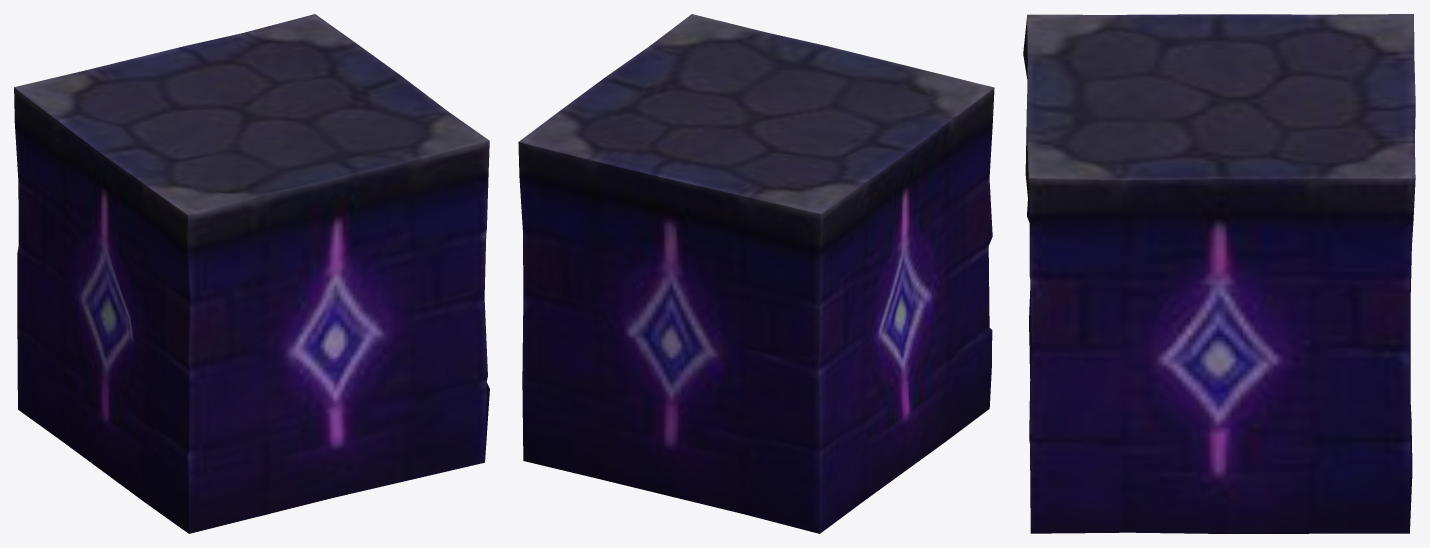
Rendered from b_abimes_mur_1.glb.
The picture shows the model from 3 angles, left to right: view 1: azimuth 30°, elevation 25°; view 2: azimuth 150°, elevation 25°; view 3: azimuth 270°, elevation 25°; orthographic projection. The views are drawn at different scales.
Visible parts, largest first — view 1: geometry_0; view 2: geometry_0; view 3: geometry_0.
Boxes of the visible parts, <box> form: geometry_0: <box>14,14,489,533</box>; geometry_0: <box>518,14,994,533</box>; geometry_0: <box>1023,14,1415,533</box>.
Bounding box in the file's own units: 1 × 1.01 × 1.
Materials: 1 (1 with a texture image).
